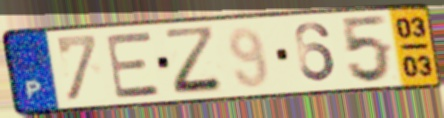5: (337, 12, 396, 84)
6: (293, 21, 339, 85)
7: (54, 33, 100, 105)
9: (226, 25, 271, 90)
E: (103, 29, 164, 101)
Z: (162, 24, 228, 97)
